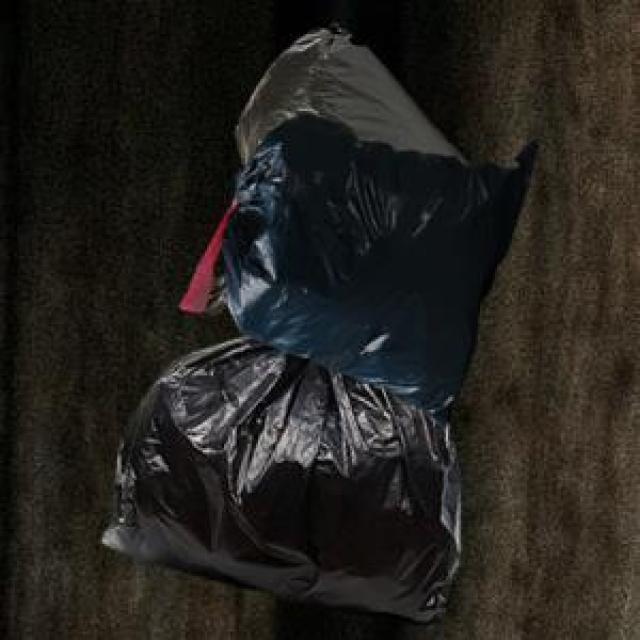miscellaneous trash: (177, 109, 533, 429), (98, 331, 454, 623), (201, 19, 467, 312)
